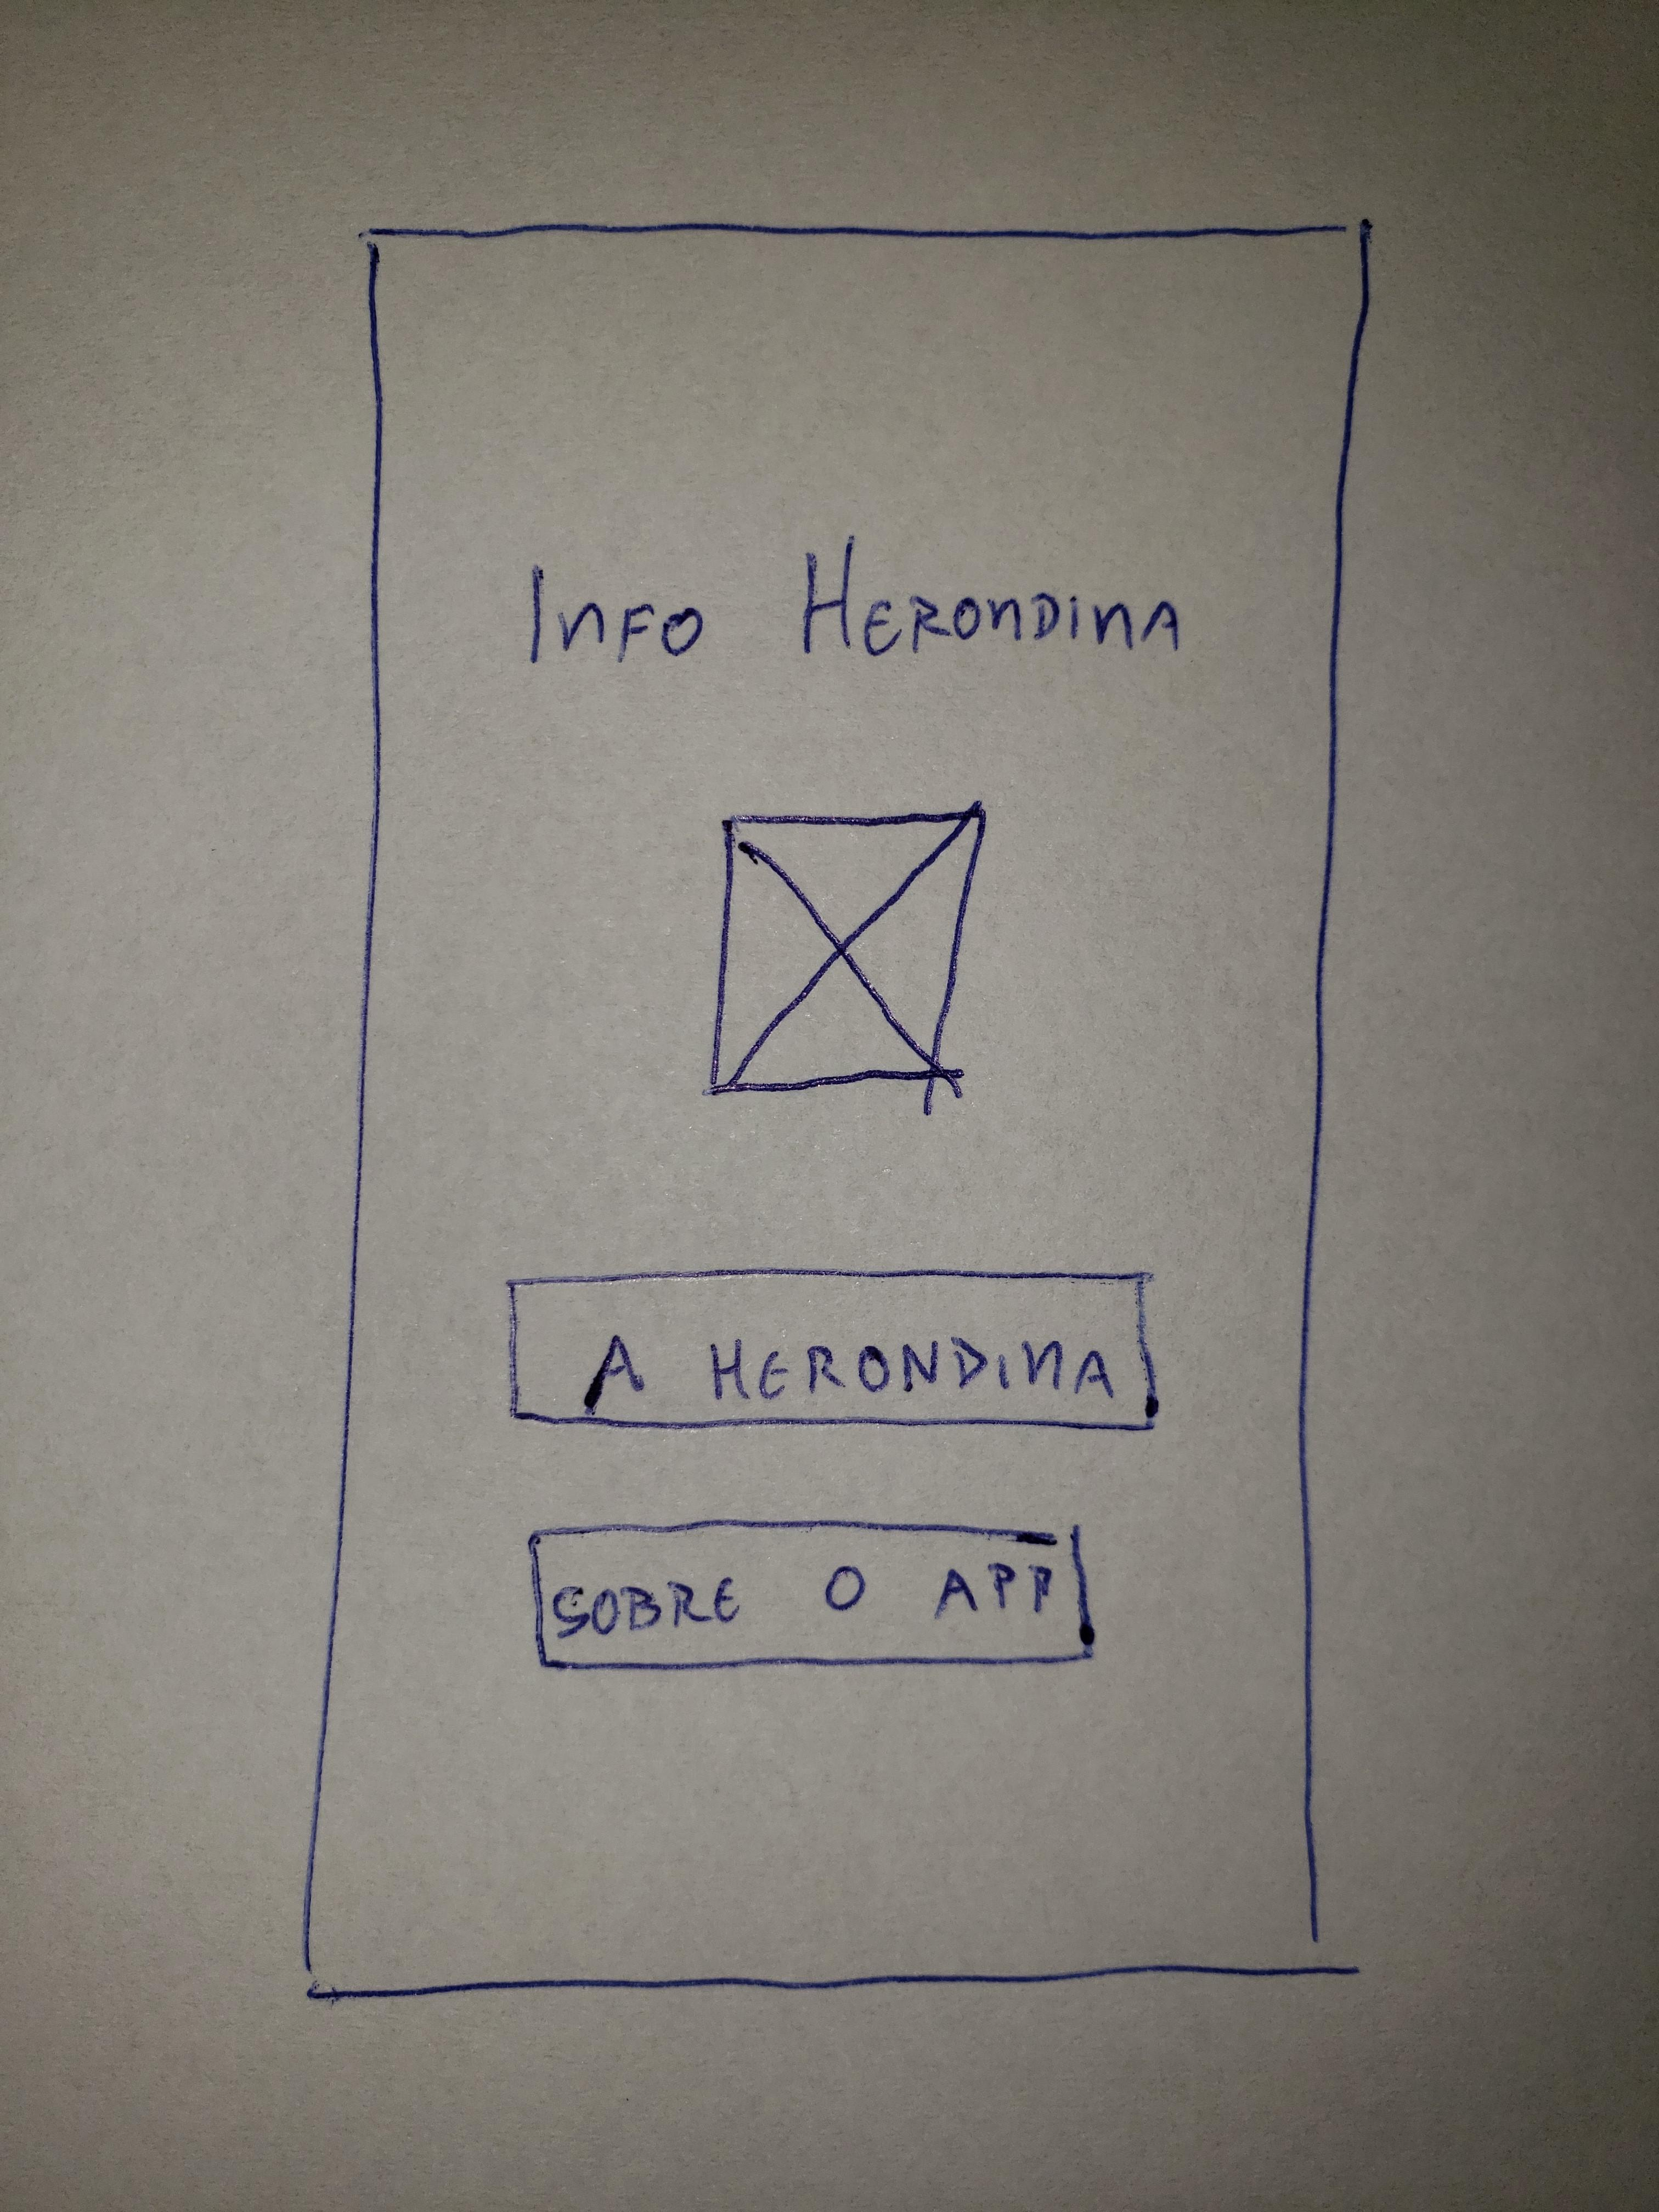Button: (503, 1271, 1158, 1429), (528, 1520, 1093, 1670)
Image: (711, 804, 989, 1093)
Label: (526, 533, 1186, 664)
Screen: (298, 222, 1371, 1997)
